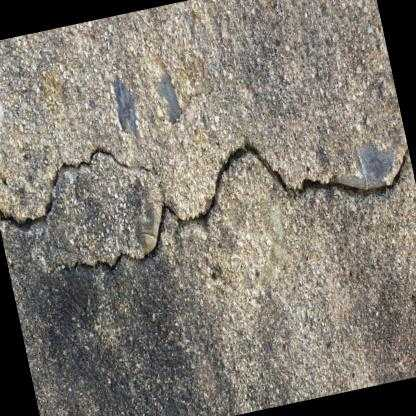crack: (69, 142, 409, 270), (0, 147, 151, 228)
